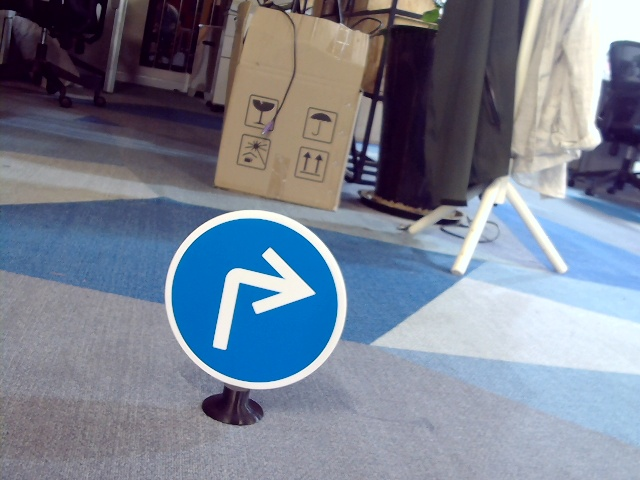turn_right: (206, 246, 316, 350)
